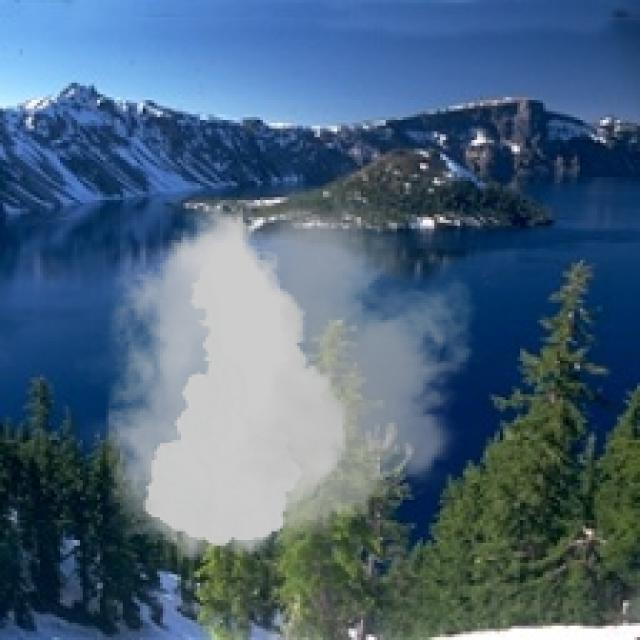Smoke: (74, 183, 497, 572)
